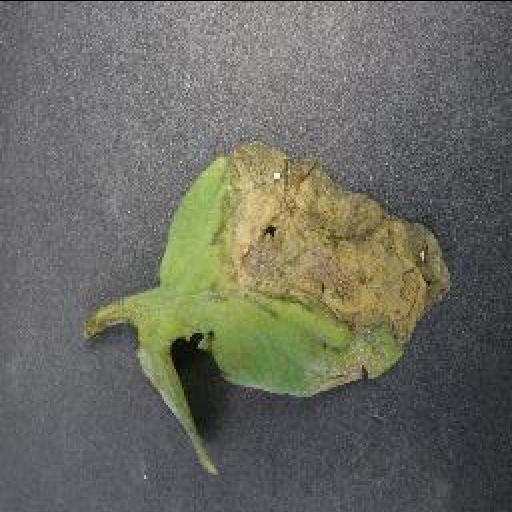disease_tomato: (158, 140, 456, 396)
